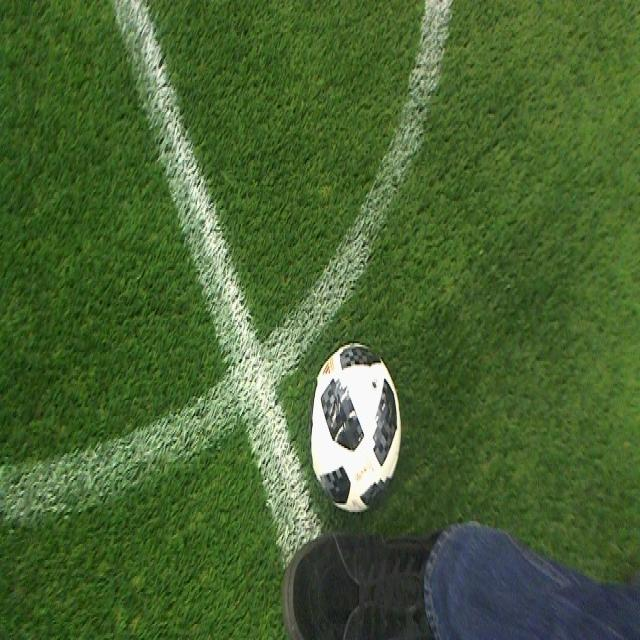ball: (310, 340, 402, 516)
